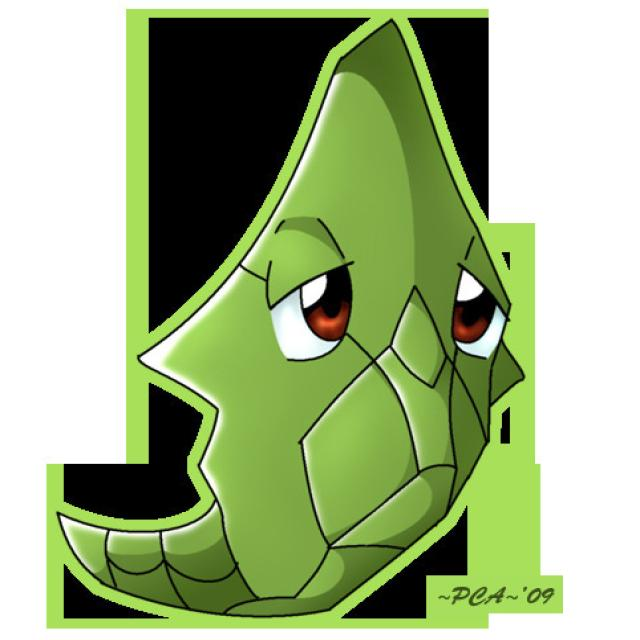Metapod: (69, 27, 518, 629)
